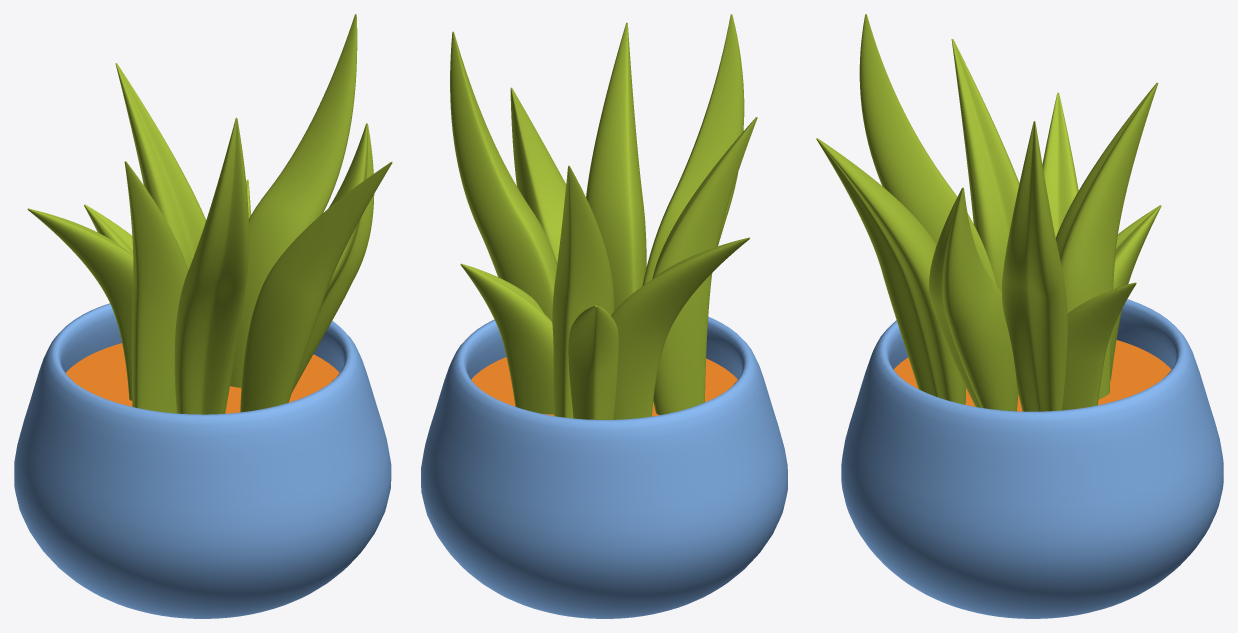
The picture shows the model from 3 angles, left to right: view 1: azimuth 30°, elevation 25°; view 2: azimuth 150°, elevation 25°; view 3: azimuth 270°, elevation 25°; orthographic projection. The views are drawn at different scales.
Parts seen in each view (by area): view 1: Vert_0, NurbsPath_2, Circle_1; view 2: Vert_0, NurbsPath_2, Circle_1; view 3: Vert_0, NurbsPath_2, Circle_1.
Part boxes in pixels (bbox=[...]): Vert_0: bbox=[14, 303, 391, 618]; NurbsPath_2: bbox=[27, 14, 392, 414]; Circle_1: bbox=[66, 343, 339, 413]; Vert_0: bbox=[421, 317, 787, 618]; NurbsPath_2: bbox=[450, 14, 757, 419]; Circle_1: bbox=[471, 357, 737, 416]; Vert_0: bbox=[841, 299, 1223, 618]; NurbsPath_2: bbox=[816, 14, 1161, 411]; Circle_1: bbox=[894, 340, 1171, 411].
Size of the model in its own units: 7.02 by 10.9 by 7.48.
Materials: 3 (3 with a texture image).
